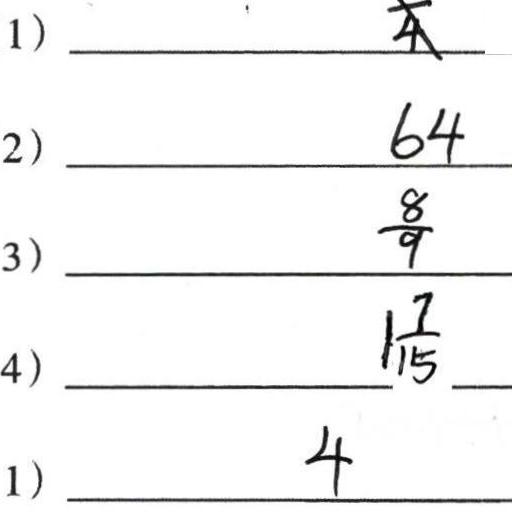ans: (373, 285, 442, 385), (384, 94, 464, 163), (373, 180, 433, 268), (300, 420, 353, 494)
